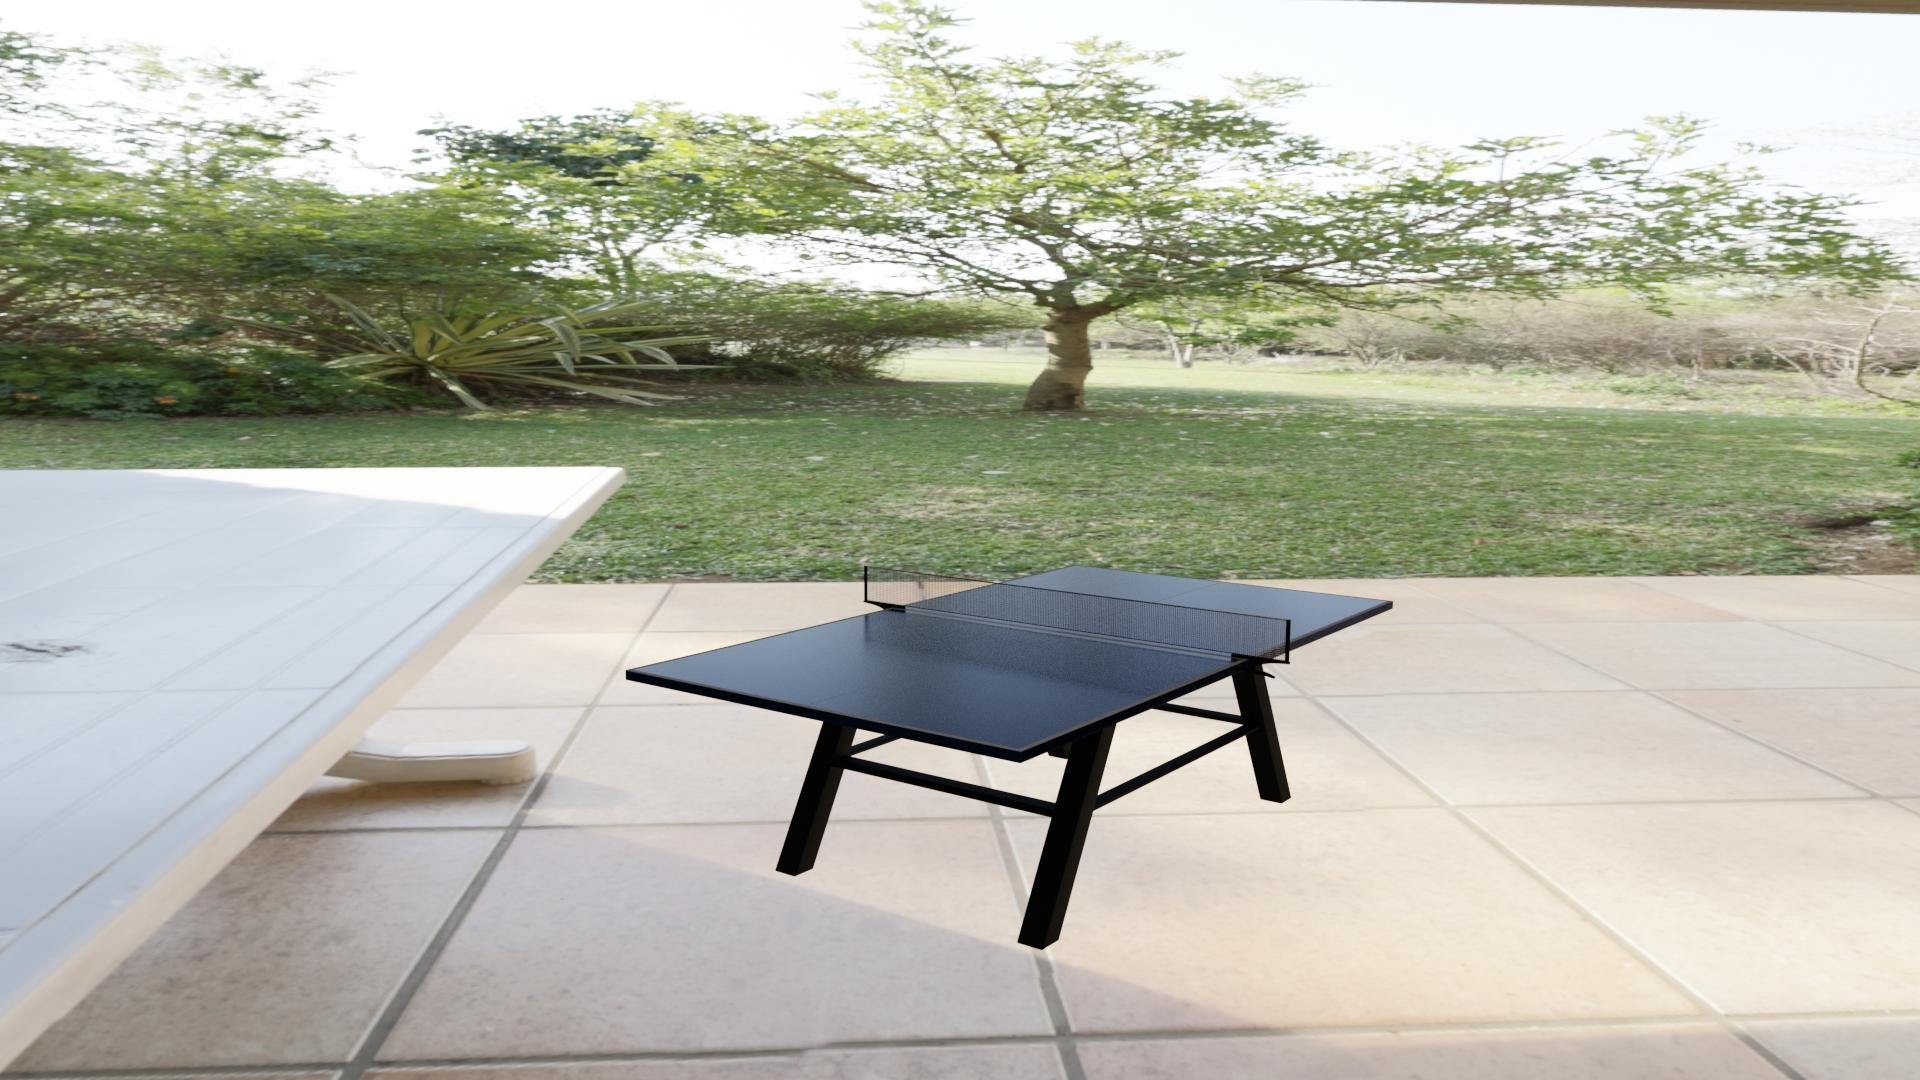table: (634, 566, 1387, 749)
